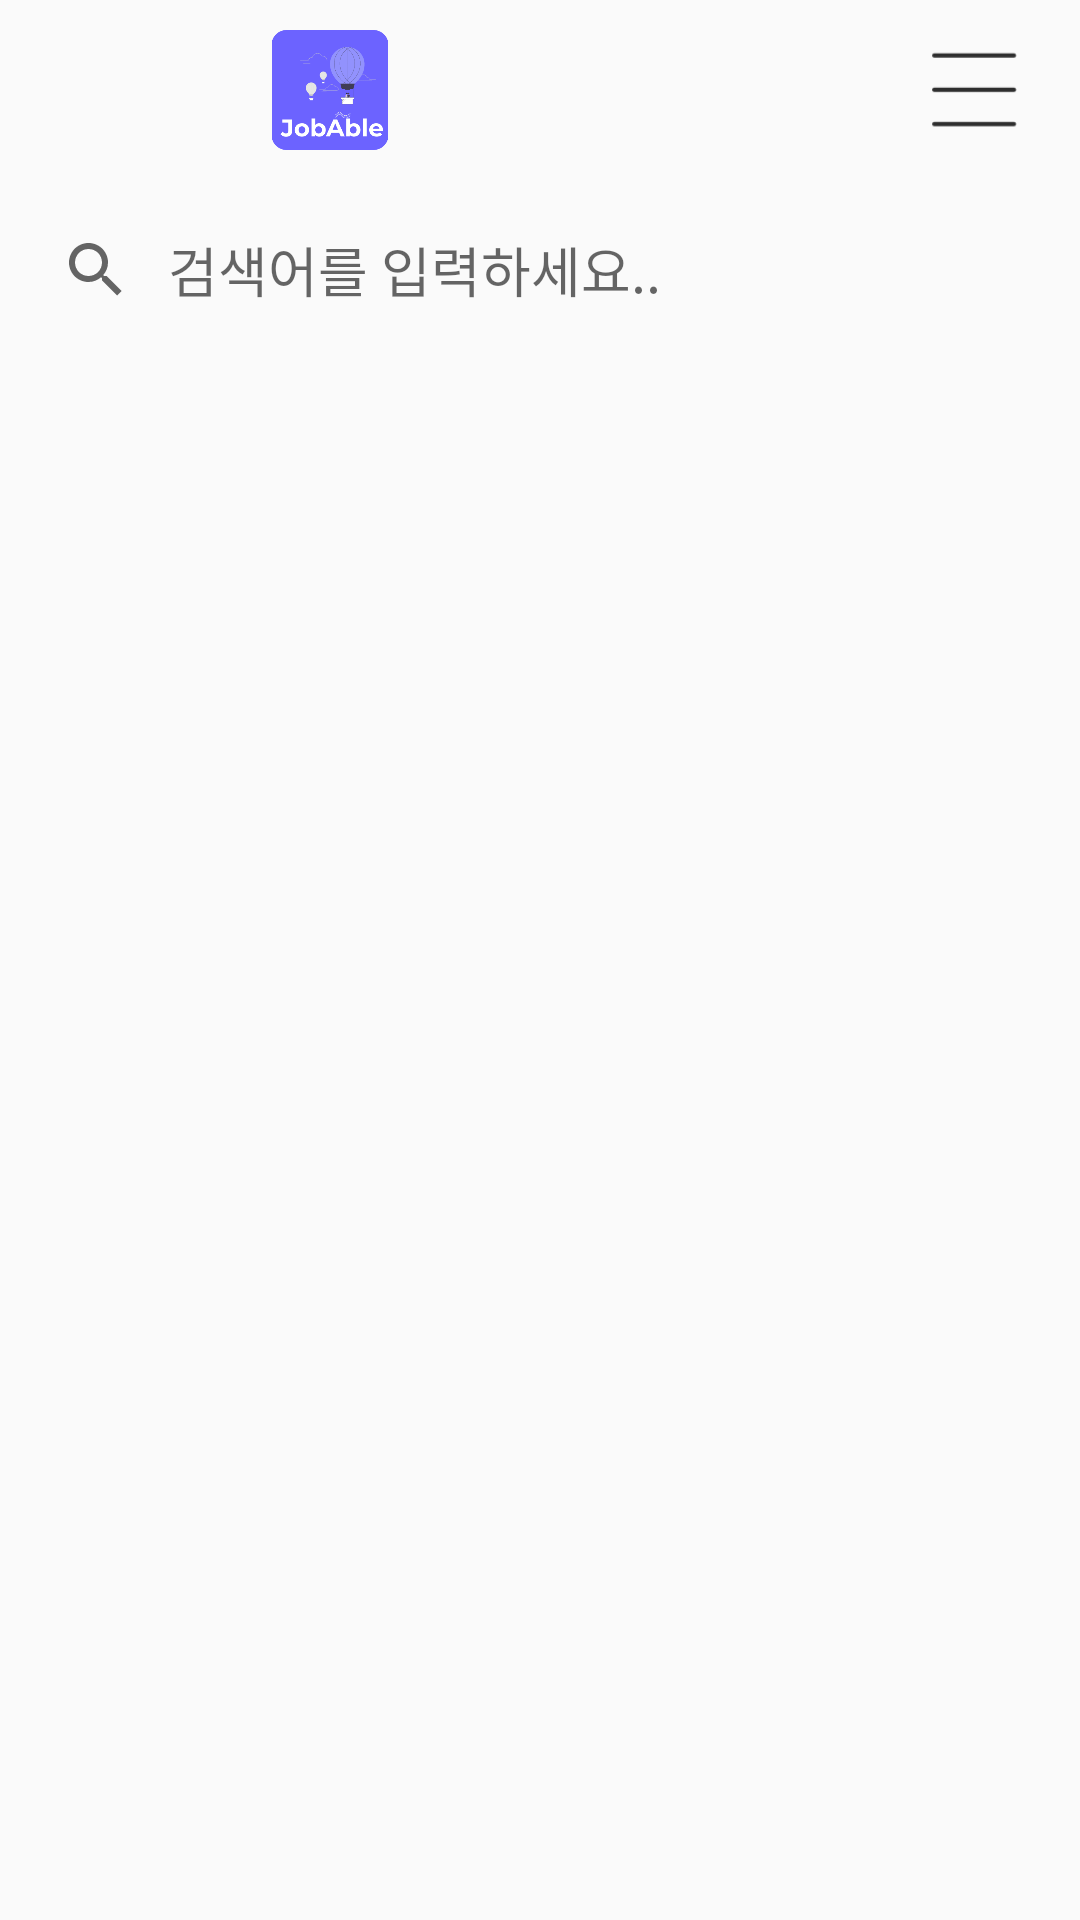

Screen size 1080w x 1920h. Icon name, then its center in pixels as [x,y]:
menu: [974,90]
